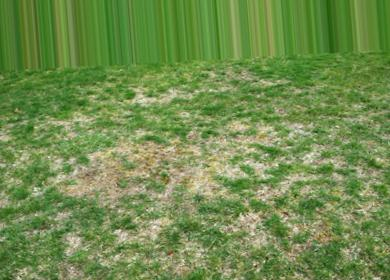patch: (174, 154, 224, 193), (69, 162, 117, 189), (238, 213, 269, 245), (113, 221, 167, 238), (236, 138, 259, 165), (127, 140, 158, 160), (307, 145, 338, 165), (261, 124, 295, 142), (63, 230, 87, 251), (263, 182, 282, 201), (127, 124, 150, 139), (132, 92, 169, 101), (155, 181, 170, 200), (124, 182, 140, 193), (229, 168, 244, 179), (292, 170, 312, 178), (97, 192, 116, 200)
